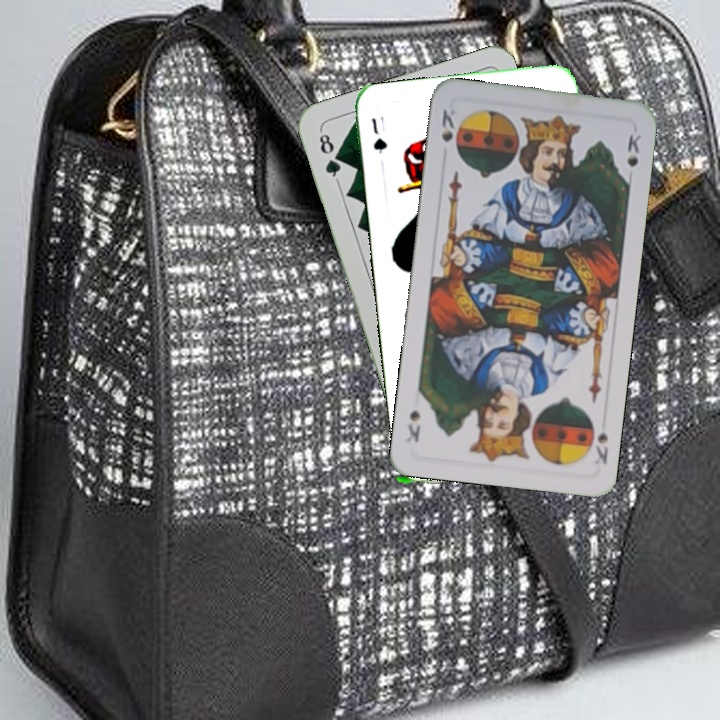G8: (315, 127, 344, 184)
GU: (367, 114, 390, 157)
SK: (437, 105, 458, 145), (590, 429, 611, 467)
